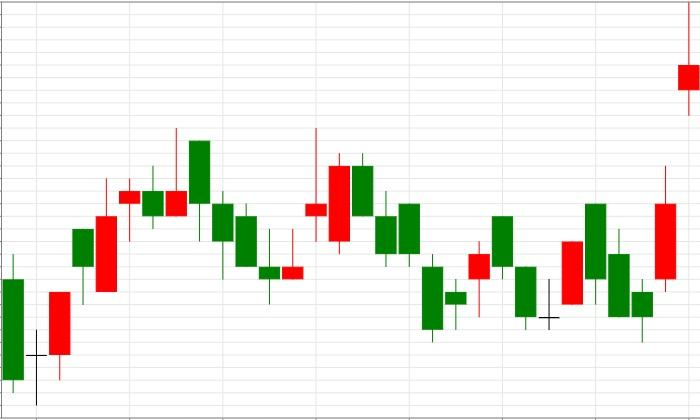inverse_hammer_rise: (189, 140, 304, 305)
